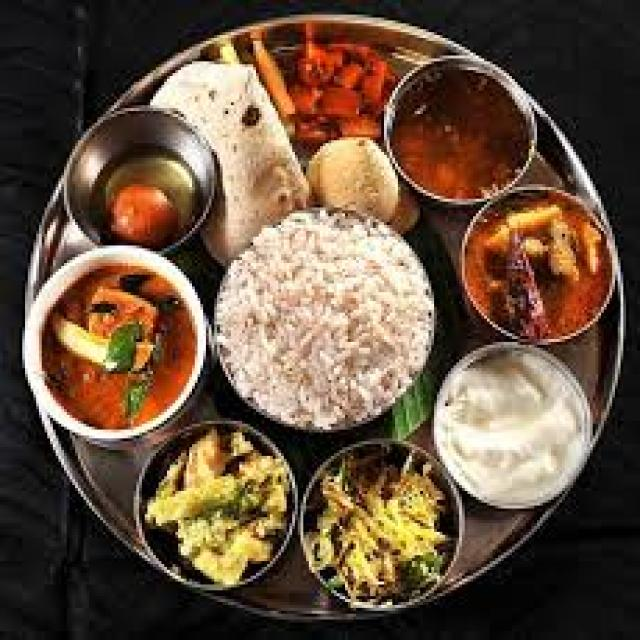non veg meals: (22, 8, 627, 630)
